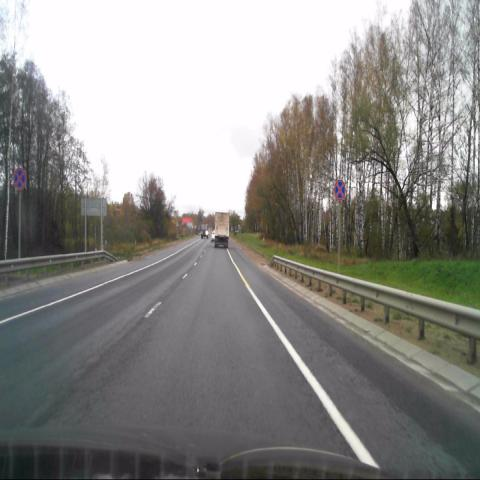3_27: (334, 178, 346, 200)
